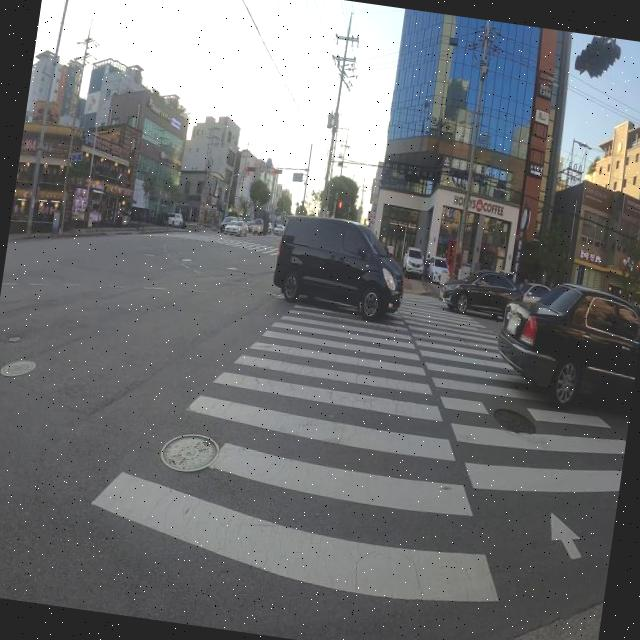crosswalk: (61, 294, 626, 617), (148, 229, 281, 258)
